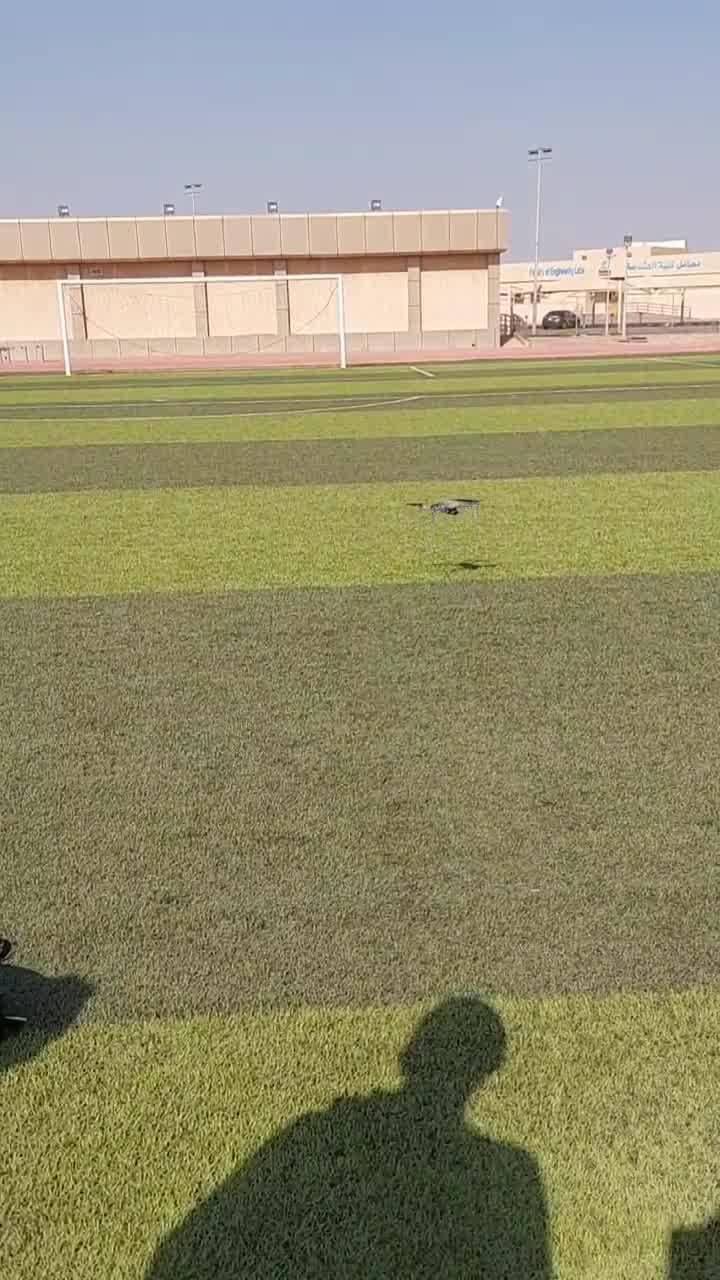drone: (383, 487, 485, 524)
